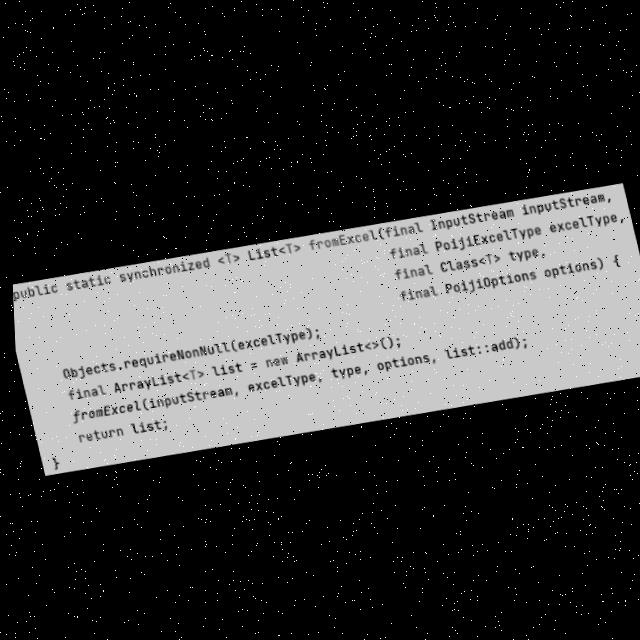code_screen: (13, 184, 640, 475)
